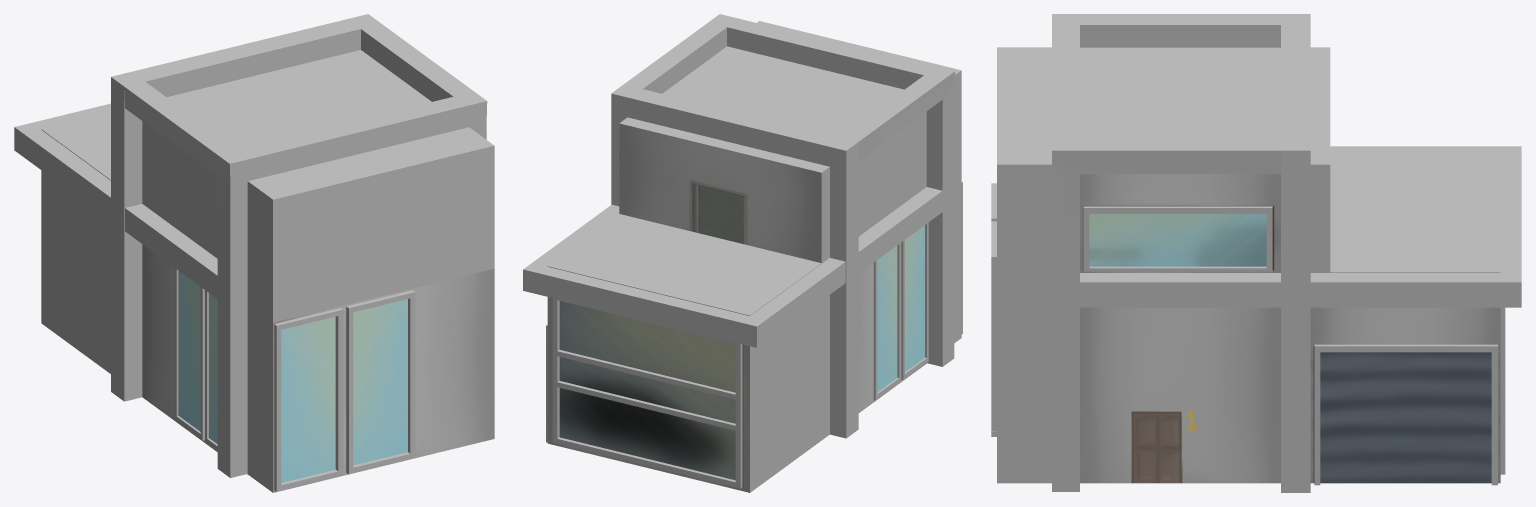
The model's file is modern house design 1.fbx.
3 views of the same model, side by side, from view 1: azimuth 30°, elevation 25°; view 2: azimuth 150°, elevation 25°; view 3: azimuth 270°, elevation 25° (orthographic). The views are drawn at different scales.
Parts seen in each view (by area): view 1: pCube1, pCube17, pCube16, pCube19, pCube18; view 2: pCube1, pCube13, pCube19, pCube18; view 3: pCube1, pCube14, pCube15, pCube16, pCube13.
Part boxes in pixels (x1,y1,x2,y2): pCube1: (14, 14, 494, 492); pCube17: (274, 308, 343, 491); pCube16: (346, 290, 415, 474); pCube19: (174, 268, 204, 440); pCube18: (205, 290, 217, 451); pCube1: (523, 14, 961, 492); pCube13: (552, 298, 742, 488); pCube19: (873, 243, 901, 400); pCube18: (901, 222, 928, 380); pCube1: (997, 14, 1521, 492); pCube14: (1314, 344, 1497, 485); pCube15: (1083, 206, 1272, 271); pCube16: (991, 221, 996, 436); pCube13: (1500, 307, 1505, 474).
Bounding box in the file's own units: 10.62 × 12.73 × 17.41.
